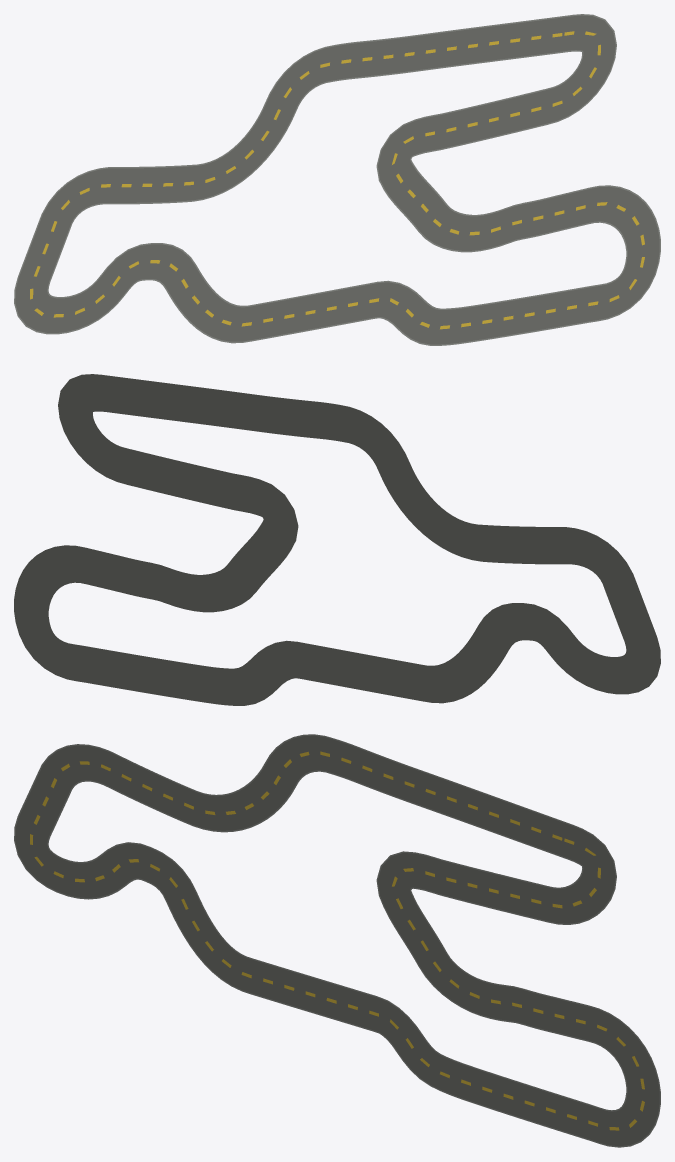
Rendered from track.obj.
The picture shows the model from 3 angles, top to bottom: view 1: azimuth 30°, elevation 25°; view 2: azimuth 150°, elevation 25°; view 3: azimuth 330°, elevation 25°; orthographic projection.
Bounding box in the file's own units: 19.79 × 9.98 × 0.002.
